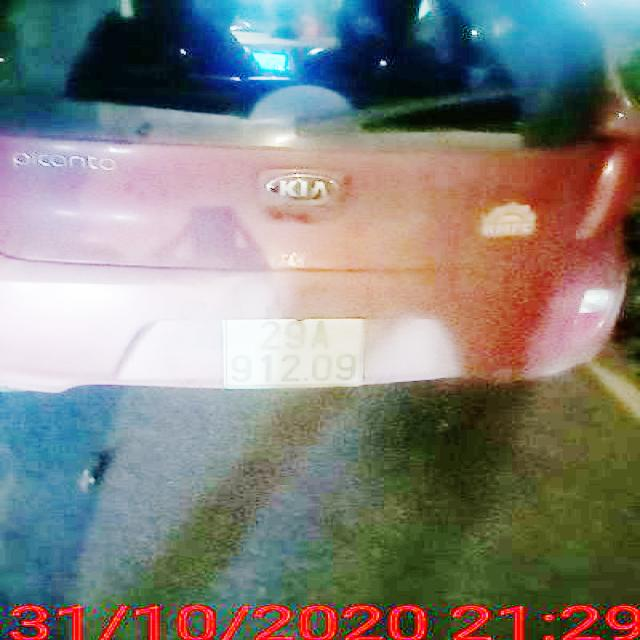license_plate: (225, 319, 366, 388)
